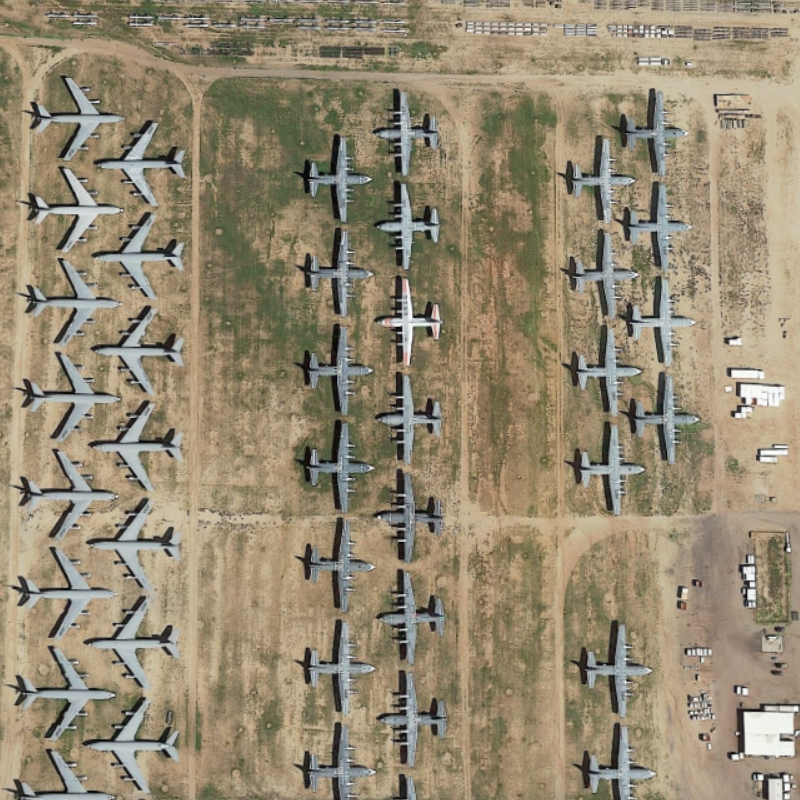A14: (15, 439, 126, 544), (9, 643, 120, 748), (81, 694, 192, 796), (81, 592, 187, 693), (20, 161, 128, 260), (81, 400, 186, 498), (19, 345, 121, 444), (90, 210, 198, 301), (87, 305, 187, 400), (22, 255, 125, 347), (29, 66, 127, 162), (87, 494, 186, 588), (14, 546, 114, 639), (98, 116, 192, 211)
A2: (364, 273, 455, 372), (576, 616, 654, 725), (561, 226, 643, 328), (297, 615, 375, 719), (572, 414, 649, 519), (292, 515, 373, 614), (376, 565, 453, 668), (564, 322, 646, 417), (378, 668, 459, 764), (297, 417, 377, 514), (626, 370, 705, 468), (376, 371, 454, 469), (301, 122, 376, 223), (298, 322, 378, 416), (627, 272, 702, 372), (573, 718, 663, 800), (373, 472, 454, 563), (373, 82, 447, 181), (371, 181, 446, 274), (623, 181, 697, 274), (297, 713, 376, 800), (298, 222, 368, 319), (616, 80, 684, 179), (570, 127, 637, 227)
